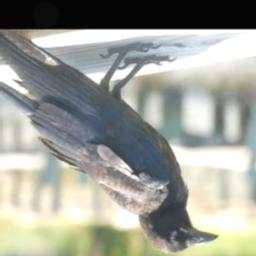Crow: (0, 29, 220, 253)
